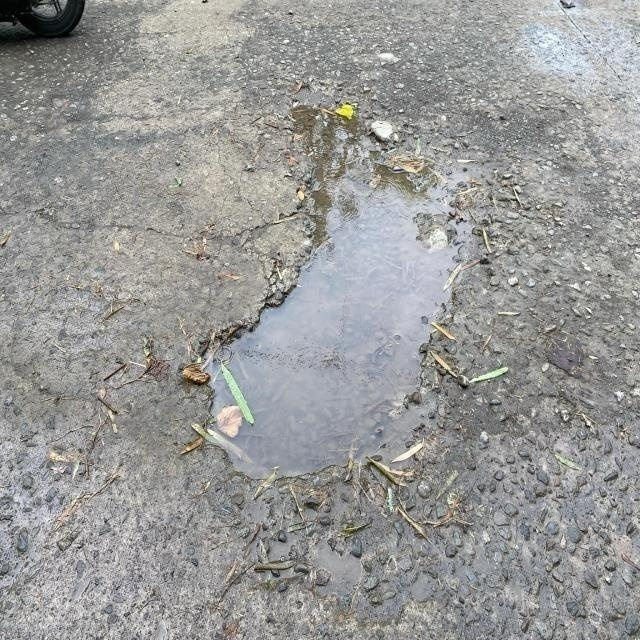pothole: (192, 89, 503, 508)
